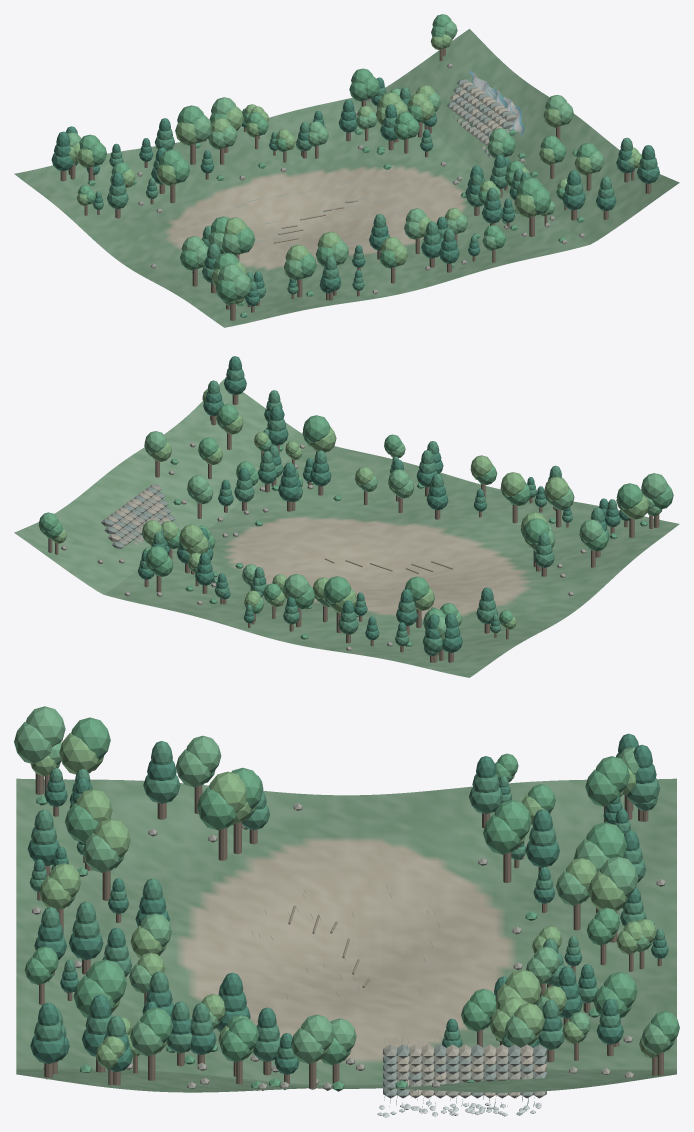
The model's file is jiuzhaigou-summer.glb.
3 views of the same model, one above another, from view 1: azimuth 30°, elevation 25°; view 2: azimuth 150°, elevation 25°; view 3: azimuth 270°, elevation 25° (orthographic). The views are drawn at different scales.
Parts seen in each view (by area): view 1: terrain, world; view 2: terrain, world; view 3: terrain, world.
Part boxes in pixels (x1,y1,x2,y2): terrain: [14, 29, 679, 327]; world: [51, 14, 659, 320]; terrain: [14, 379, 679, 677]; world: [38, 356, 673, 662]; terrain: [16, 778, 676, 1092]; world: [14, 706, 679, 1117].
Size of the model in its own units: 30 by 5.94 by 24.19.
